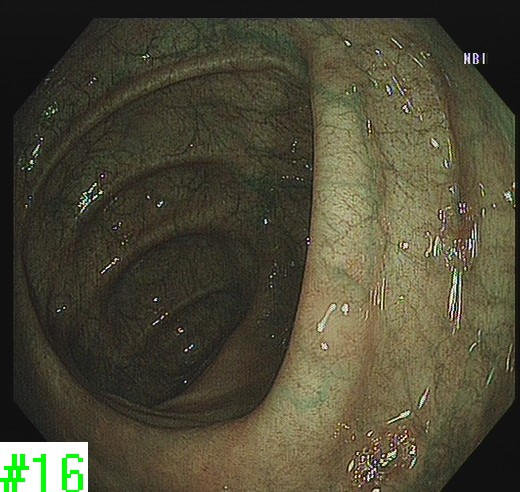others: (294, 290, 358, 356)
